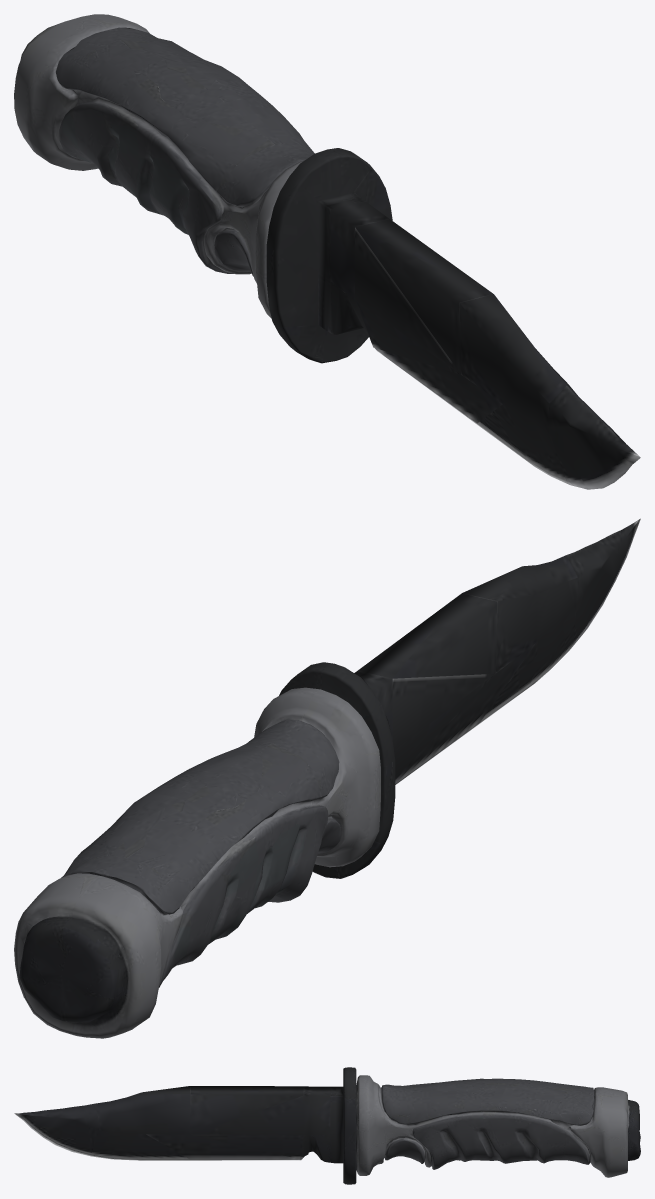
The model's file is knife.glb.
The picture shows the model from 3 angles, top to bottom: view 1: azimuth 30°, elevation 25°; view 2: azimuth 150°, elevation 25°; view 3: azimuth 270°, elevation 25°; orthographic projection. The views are drawn at different scales.
Visible parts, largest first — view 1: w_knife; view 2: w_knife; view 3: w_knife.
Boxes of the visible parts, x1=… form: w_knife: x1=14, y1=14, x2=640, y2=489; w_knife: x1=14, y1=518, x2=640, y2=1038; w_knife: x1=14, y1=1067, x2=640, y2=1184.
Bounding box in the file's own units: 0.0419 × 0.0631 × 0.32.
1 material, 1 textured.
